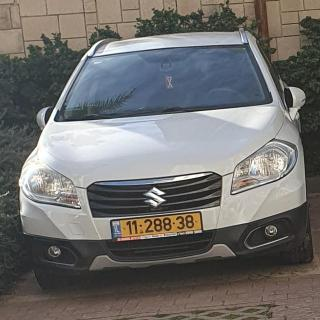LicensePlate: (120, 213, 201, 237)
